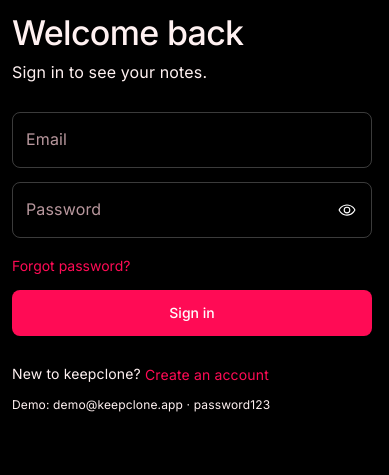
Scenario: AuthForm (login) › validates empty fields on submit
Click the button "Sign in".
click(192, 313)  # box [12,290,372,336]
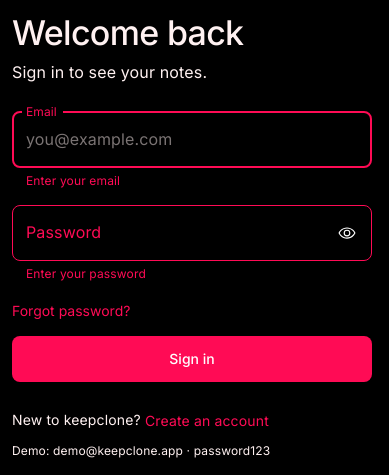
Expected: the text "Enter your email" is shown, [26,173,120,188]
Expected: the text "Enter your password" is shown, [26,266,146,281]
